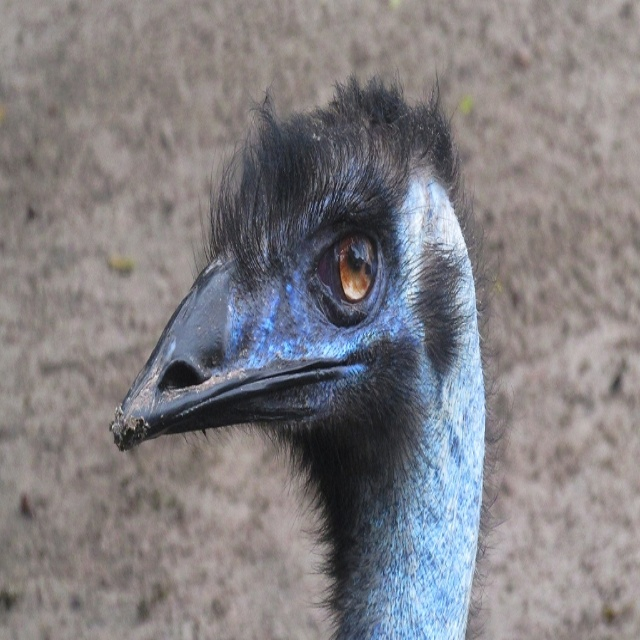Ostrich: (109, 50, 526, 640)
